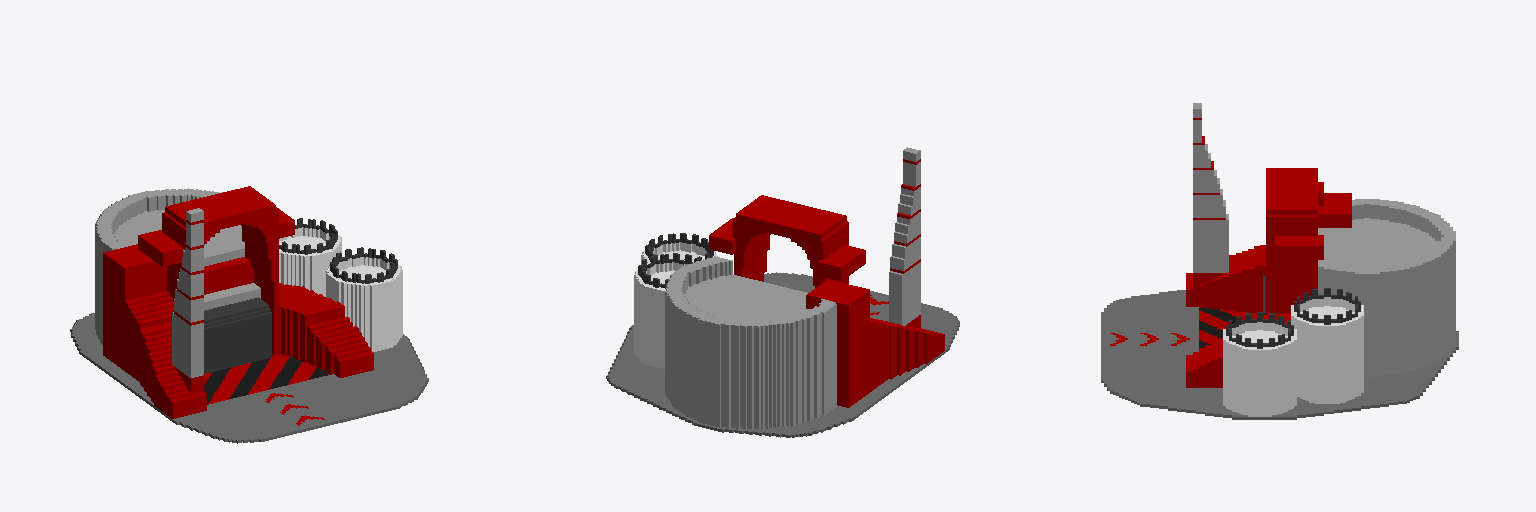
3 renders of one model, left to right at view 1: azimuth 30°, elevation 25°; view 2: azimuth 150°, elevation 25°; view 3: azimuth 270°, elevation 25°, orthographic.
Visible parts, largest first — view 1: object 1; view 2: object 1; view 3: object 1.
Boxes of the visible parts, x1,y1,x2,y2 form: object 1: [70, 186, 428, 443]; object 1: [606, 147, 959, 437]; object 1: [1101, 103, 1458, 419].
Bounding box in the file's own units: 9.8 × 7.2 × 11.7.
Materials: 1 (1 with a texture image).